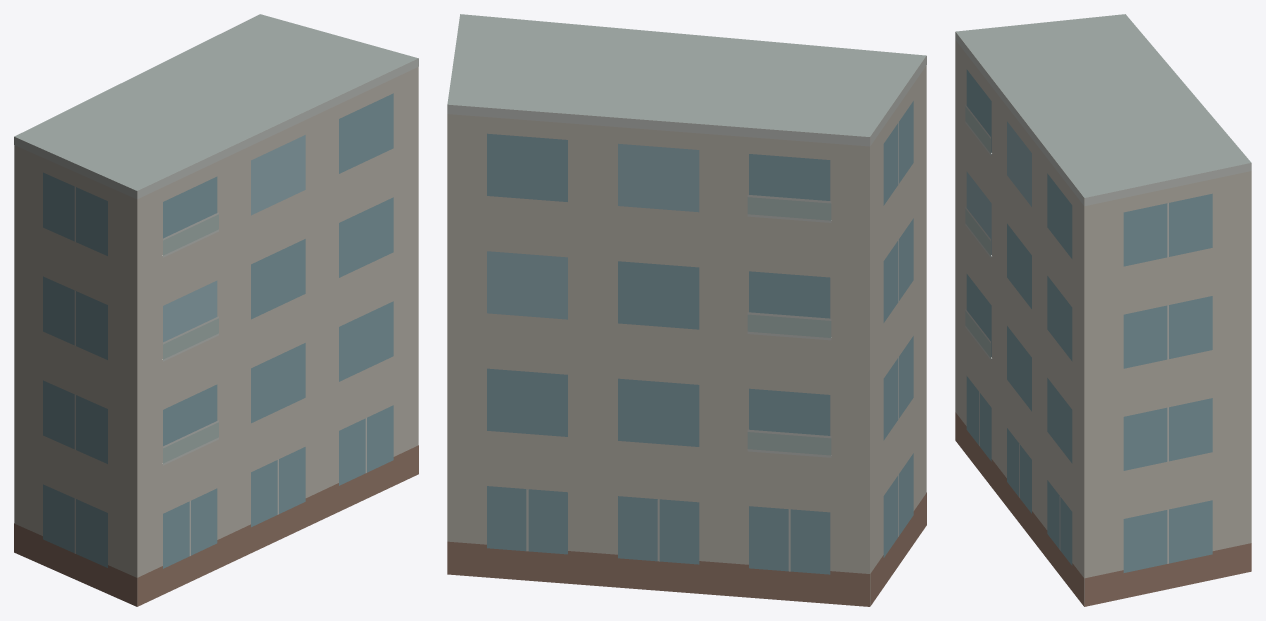
File: survey-upis-32489307.glb
3 views of the same model, side by side, from view 1: azimuth 30°, elevation 25°; view 2: azimuth 150°, elevation 25°; view 3: azimuth 270°, elevation 25° (orthographic). The views are drawn at different scales.
Visible parts, largest first — view 1: survey-upis-32489307.tmp; view 2: survey-upis-32489307.tmp; view 3: survey-upis-32489307.tmp.
Part boxes in pixels (left/top/right/bottom): survey-upis-32489307.tmp: left=14, top=14, right=418, bottom=606; survey-upis-32489307.tmp: left=447, top=14, right=926, bottom=606; survey-upis-32489307.tmp: left=955, top=14, right=1251, bottom=606.
Bounding box in the file's own units: 11.79 × 12.2 × 8.02.
